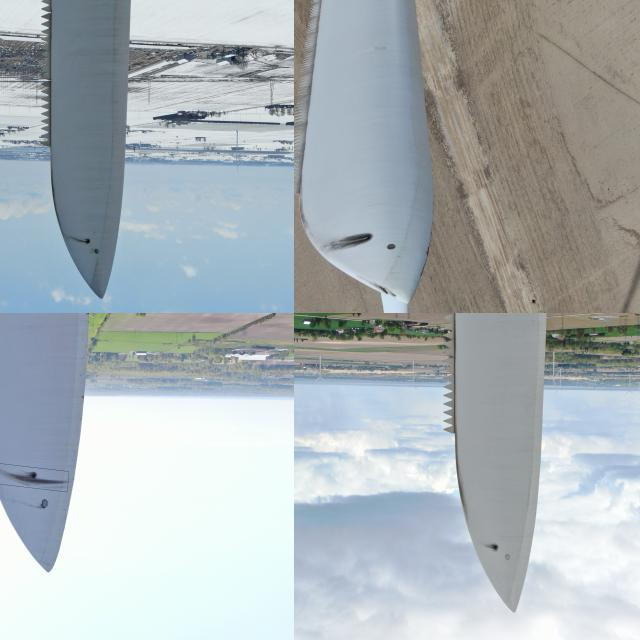damage: (320, 223, 374, 256), (2, 466, 38, 487), (66, 232, 92, 246), (490, 540, 499, 554), (29, 471, 37, 478)
